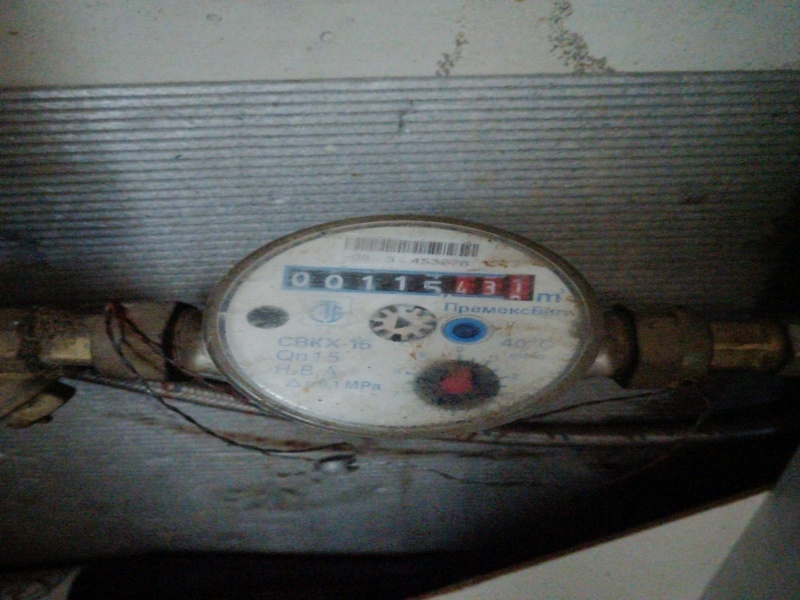meter: (281, 265, 529, 298)
